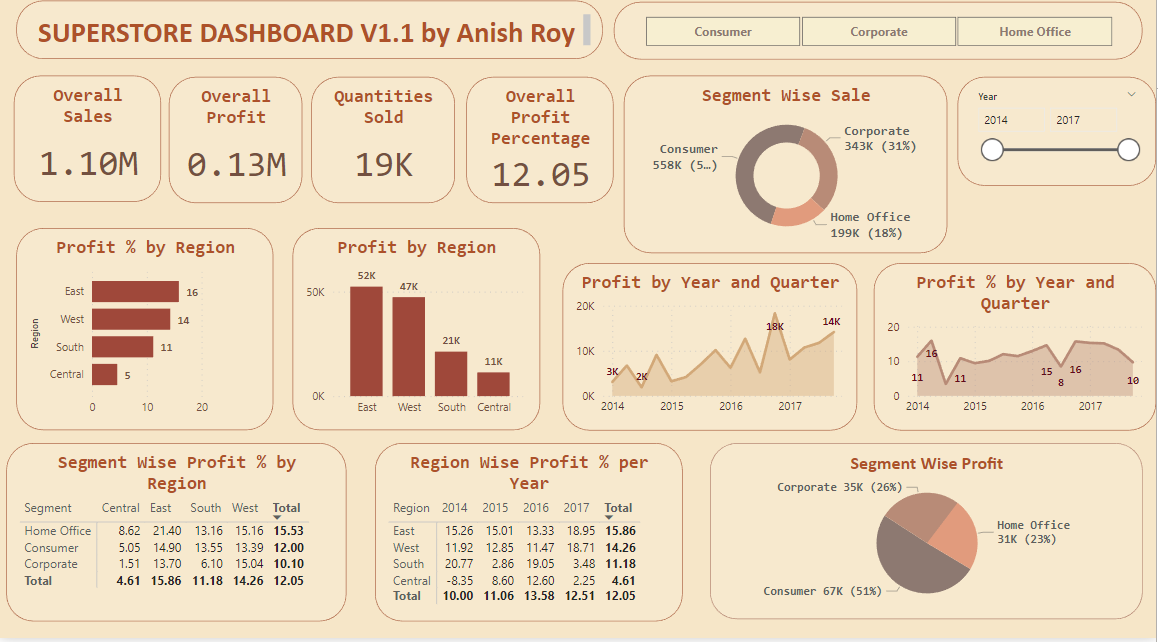

This screenshot's page, from the dashboard's own definition file:
{"tool":"powerbi","page":{"name":"Page 1","canvas":[1280,720],"ordinal":0},"visuals":[{"type":"card","title":"Overall Sales","fields":{"Values":["Sum(Sample - Superstore.Sales)"]},"box":[14.7,96.8,163.4,139.8],"z":0},{"type":"card","title":"Overall Profit","fields":{"Values":["Sum(Sample - Superstore.Profit)"]},"box":[186.3,98.2,148.1,139.8],"z":1000},{"type":"card","title":"Quantities Sold","fields":{"Values":["Sum(Sample - Superstore.Quantity)"]},"box":[344.2,98.2,159.2,139.8],"z":2000},{"type":"areaChart","title":" Profit by Year and Quarter","fields":{"Category":["Sample - Superstore.Order Date.Variation.Date Hierarchy.Year","Sample - Superstore.Order Date.Variation.Date Hierarchy.Quarter"],"Y":["Sum(Sample - Superstore.Profit)"]},"box":[623,304.6,326.7,185.5],"z":3000},{"type":"columnChart","title":" Profit by Region","fields":{"Category":["Sample - Superstore.Region"],"Y":["Sum(Sample - Superstore.Profit)"]},"box":[323.9,265.8,274.1,224.3],"z":4000},{"type":"pieChart","title":"Segment  Wise Sale ","fields":{"Category":["Sample - Superstore.Segment"],"Y":["Sum(Sample - Superstore.Sales)"]},"box":[690.8,96.9,358.6,196.6],"z":5000},{"type":"pieChart","title":"Segment Wise Profit","fields":{"Category":["Sample - Superstore.Segment"],"Y":["Sum(Sample - Superstore.Profit)"]},"box":[786.3,503.9,479,195.2],"z":6000},{"type":"card","title":"Overall Profit Percentage","fields":{"Values":["Sample - Superstore.Profit divided by Sales"]},"box":[515.8,98.2,163.4,139.8],"z":7000},{"type":"clusteredBarChart","title":" Profit % by Region","fields":{"Category":["Sample - Superstore.Region"],"Y":["Sample - Superstore.Profit divided by Sales"]},"box":[18,265.8,285.2,224.3],"z":8000},{"type":"pivotTable","title":" Segment Wise Profit % by Region","fields":{"Values":["Sample - Superstore.Profit divided by Sales"],"Rows":["Sample - Superstore.Segment"],"Columns":["Sample - Superstore.Region"]},"box":[6.9,503.9,376.6,198],"z":9000},{"type":"stackedAreaChart","title":" Profit % by Year and Quarter","fields":{"Category":["Sample - Superstore.Order Date.Variation.Date Hierarchy.Year","Sample - Superstore.Order Date.Variation.Date Hierarchy.Quarter"],"Y":["Sample - Superstore.Profit divided by Sales"]},"box":[967.7,304.6,312.9,185.5],"z":10000},{"type":"pivotTable","title":"Region Wise Profit % per Year","fields":{"Values":["Sample - Superstore.Profit divided by Sales"],"Rows":["Sample - Superstore.Region"],"Columns":["Sample - Superstore.Order Date.Variation.Date Hierarchy.Year"]},"box":[415.3,503.9,340.6,198],"z":11000},{"type":"slicer","fields":{"Values":["Sample - Superstore.Segment"]},"box":[679.7,15.2,585.6,63.7],"z":12000},{"type":"slicer","fields":{"Values":["Sample - Superstore.Order Date.Variation.Date Hierarchy.Year"]},"box":[1060.4,98.3,220.1,120.4],"z":13000},{"type":"textbox","box":[18,13.8,649.3,65.1],"z":14000}]}

Visuals, with their boxes in screenshot pixels (x1, y1, x2, y2), scaled from the page's 1280x720 canvas onto the 1158x642 screenshot:
"Overall Sales" card: <region>13, 86, 161, 211</region>
"Overall Profit" card: <region>169, 88, 303, 212</region>
"Quantities Sold" card: <region>311, 88, 455, 212</region>
" Profit by Year and Quarter" areaChart: <region>564, 272, 859, 437</region>
" Profit by Region" columnChart: <region>293, 237, 541, 437</region>
"Segment  Wise Sale " pieChart: <region>625, 86, 949, 262</region>
"Segment Wise Profit" pieChart: <region>711, 449, 1145, 623</region>
"Overall Profit Percentage" card: <region>467, 88, 614, 212</region>
" Profit % by Region" clusteredBarChart: <region>16, 237, 274, 437</region>
" Segment Wise Profit % by Region" pivotTable: <region>6, 449, 347, 626</region>
" Profit % by Year and Quarter" stackedAreaChart: <region>875, 272, 1157, 437</region>
"Region Wise Profit % per Year" pivotTable: <region>376, 449, 684, 626</region>
slicer - Sample - Superstore.Segment: <region>615, 14, 1145, 70</region>
slicer - Sample - Superstore.Order Date.Variation.Date Hierarchy.Year: <region>959, 88, 1157, 195</region>
textbox: <region>16, 12, 604, 70</region>
